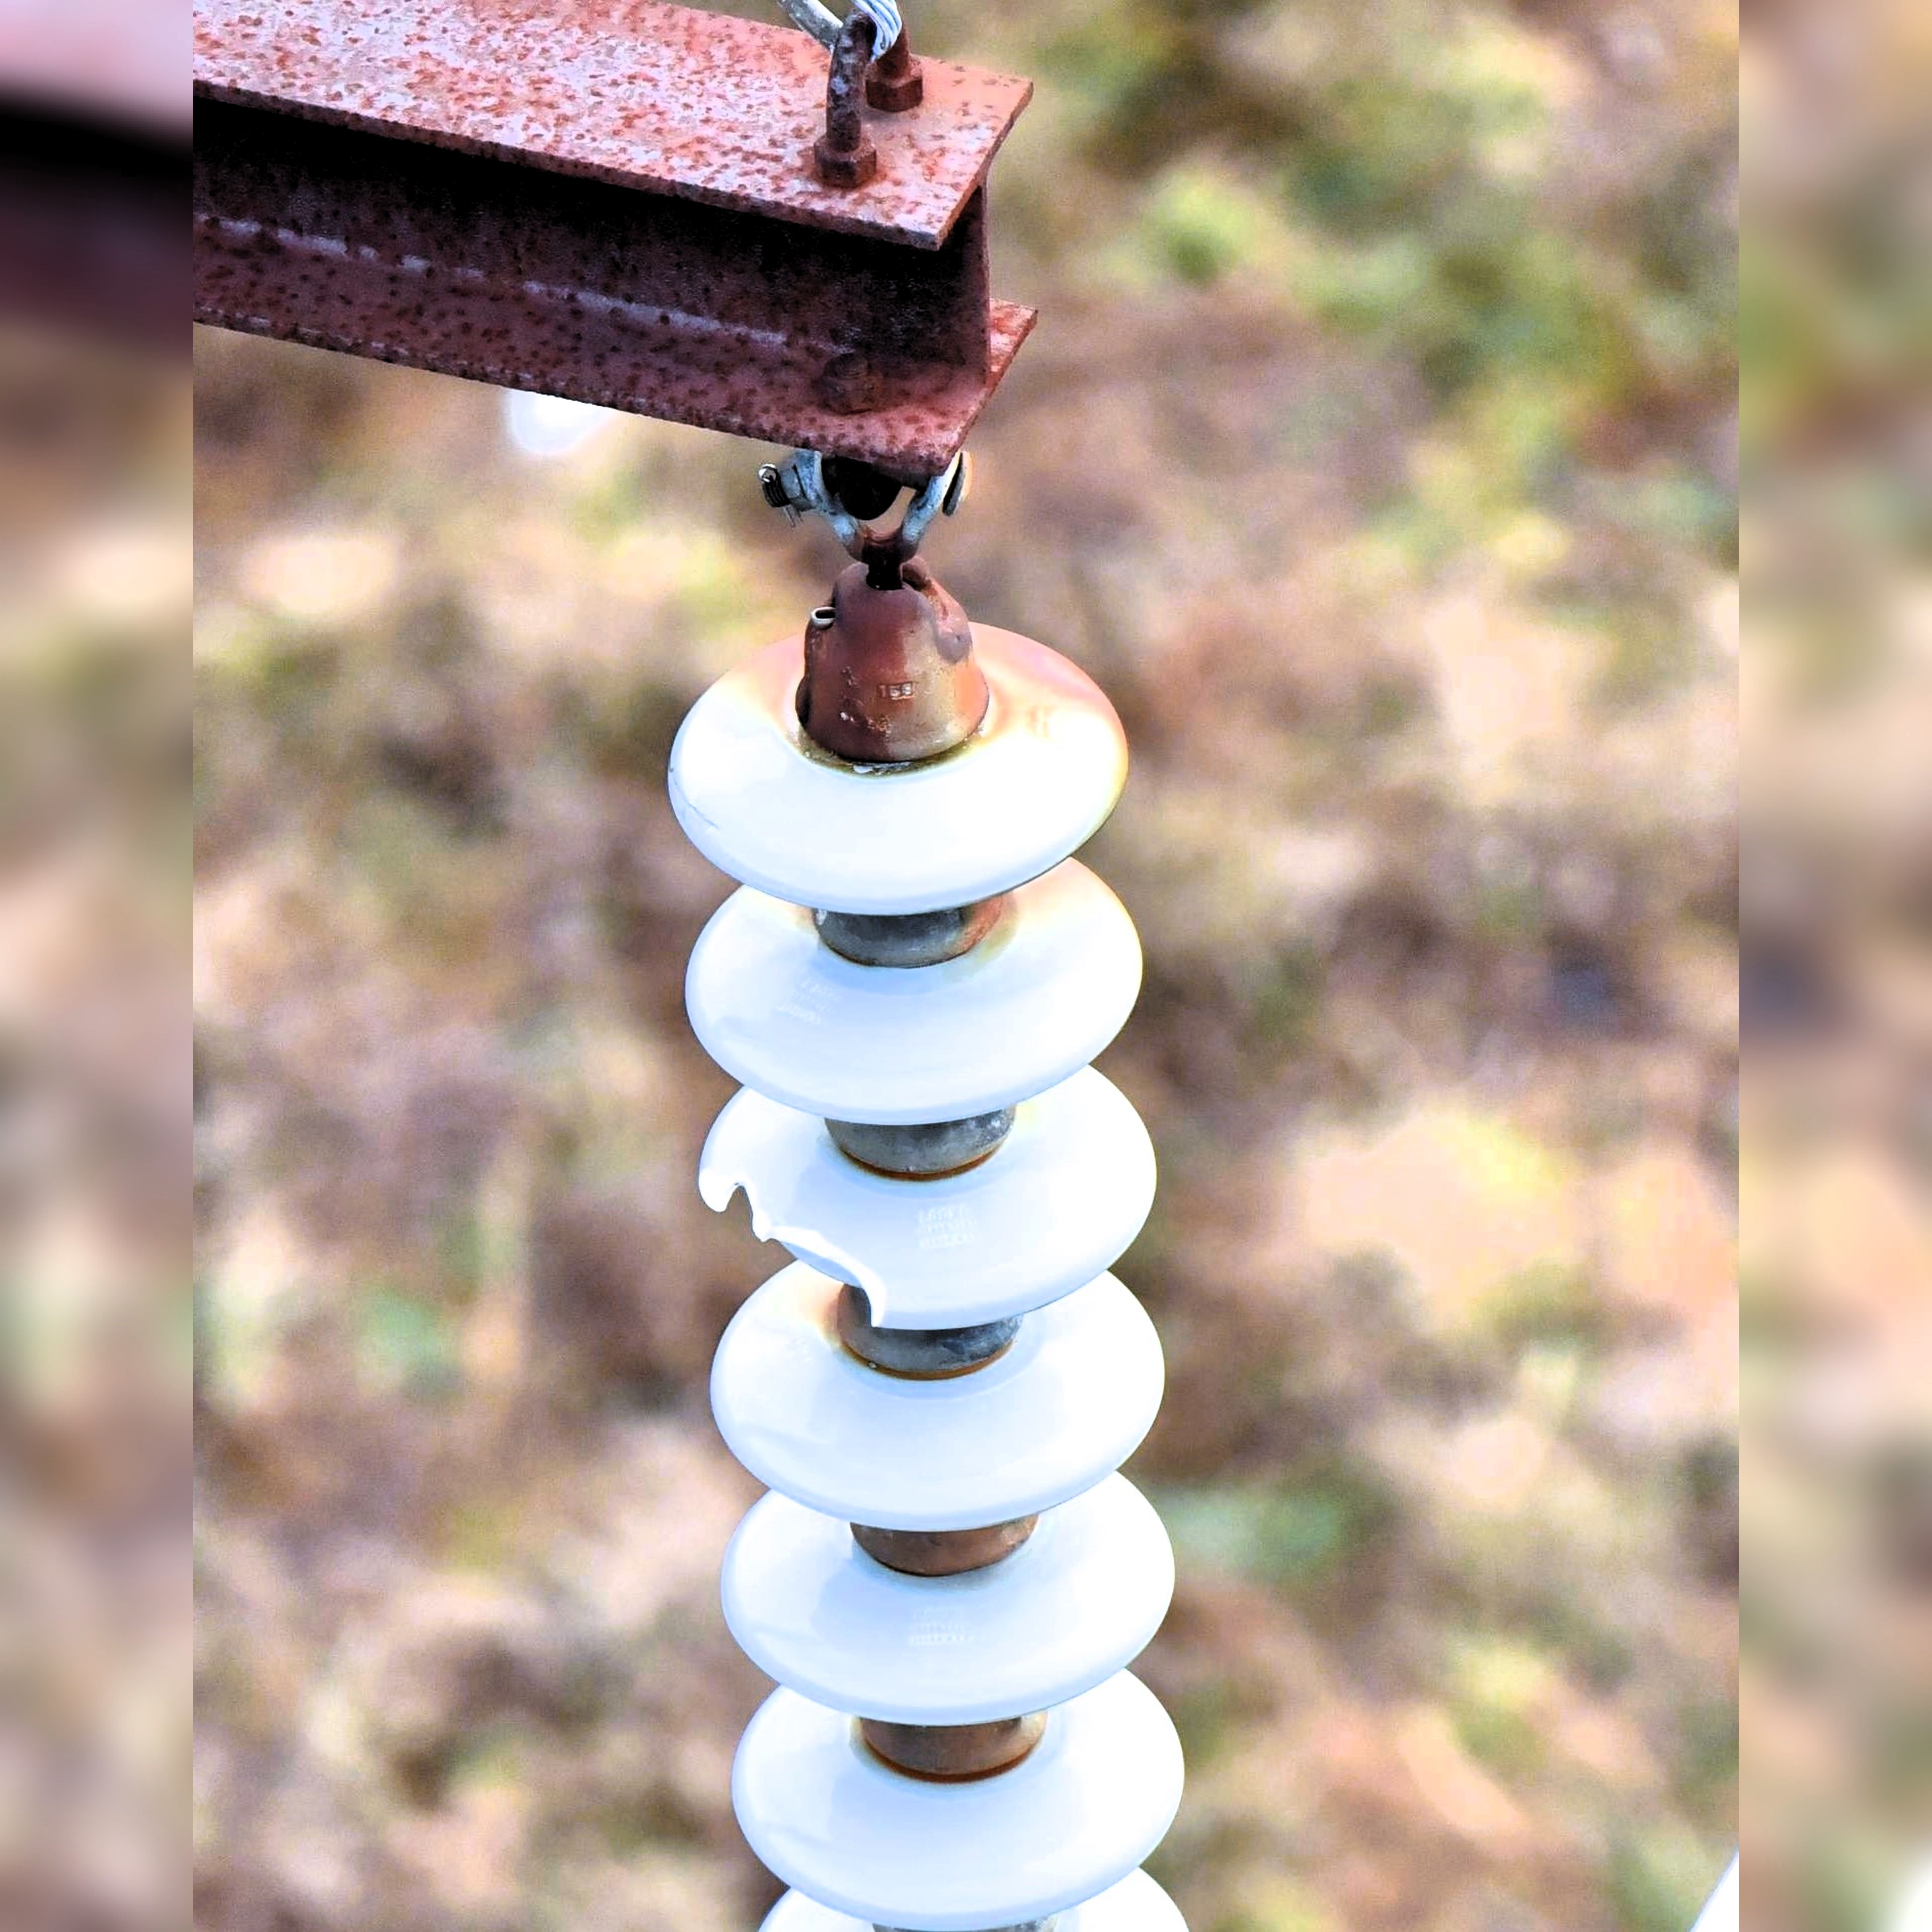insulator breakage: (665, 1056, 1157, 1343)
